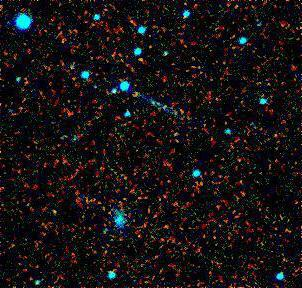star: (120, 75, 150, 105)
